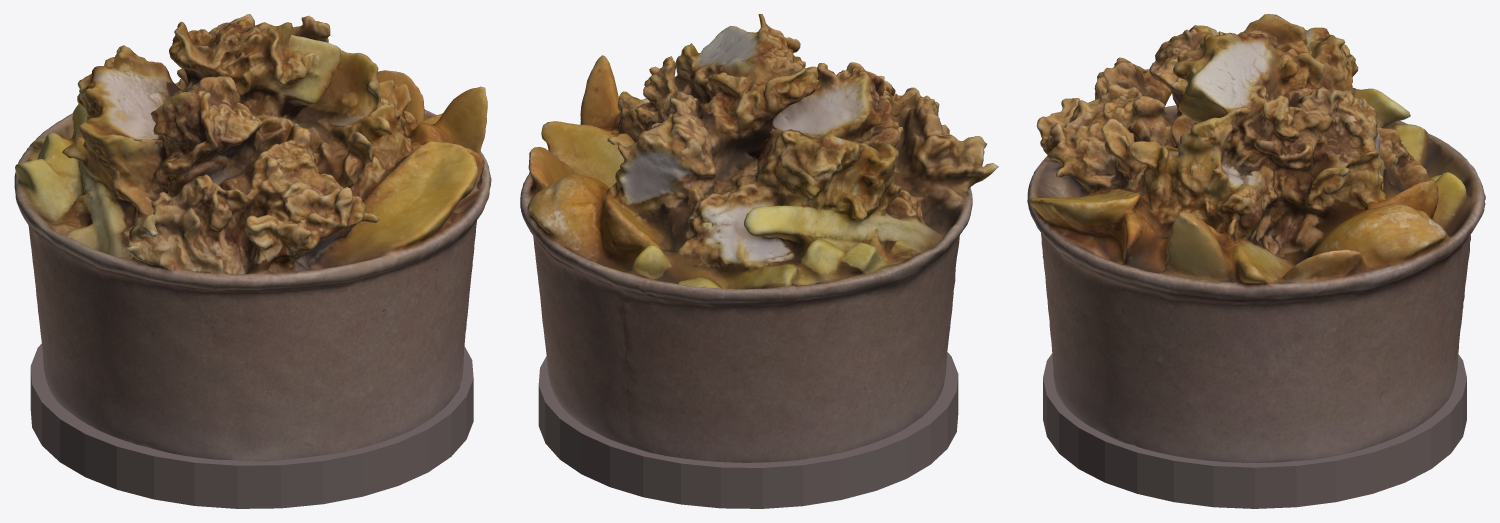
Rendered from mix.strip.glb.
3 renders of one model, left to right at view 1: azimuth 30°, elevation 25°; view 2: azimuth 150°, elevation 25°; view 3: azimuth 270°, elevation 25°, orthographic. The views are drawn at different scales.
Visible parts, largest first — view 1: 3DModel.001, Cylinder; view 2: 3DModel.001, Cylinder; view 3: 3DModel.001, Cylinder.
Part boxes in pixels (x1,y1,x2,y2): 3DModel.001: (14, 14, 491, 461); Cylinder: (30, 343, 473, 508); 3DModel.001: (520, 14, 998, 462); Cylinder: (538, 352, 958, 508); 3DModel.001: (1027, 14, 1485, 462); Cylinder: (1043, 353, 1466, 508).
Size of the model in its own units: 0.1335 by 0.123 by 0.1311.
Materials: 2 (1 with a texture image).
